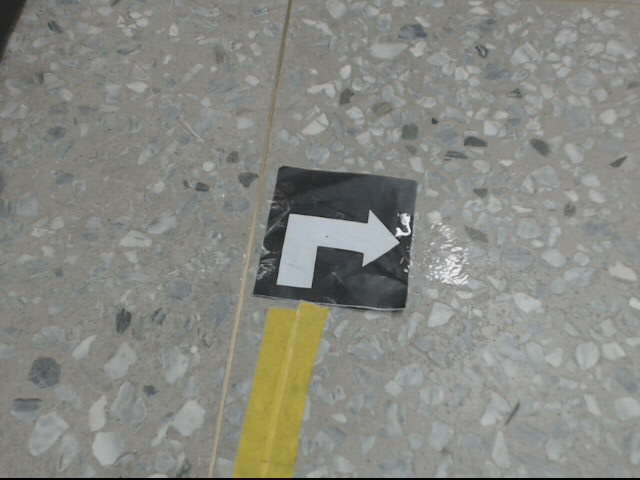right: (251, 164, 420, 311)
